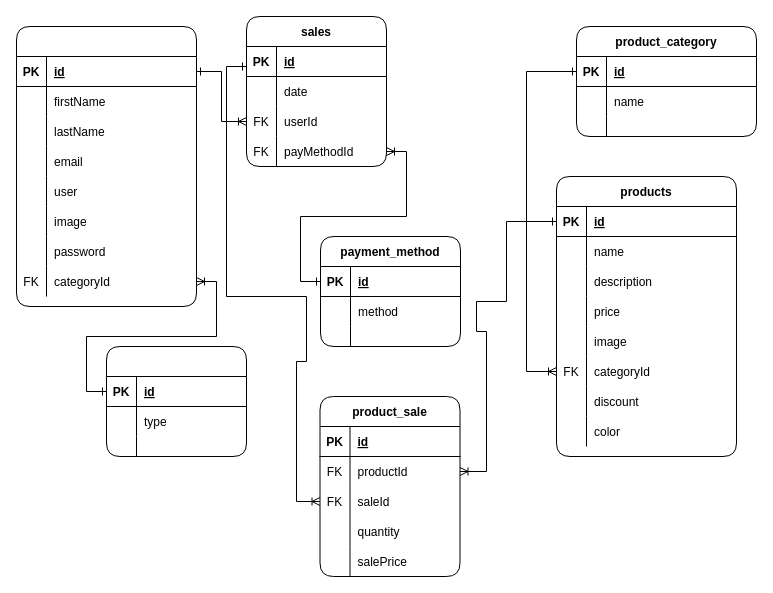
The diagram is 773 pixels wide and 593 high, and some of its shapes have lost their labels. The shapes that lost their labels are listed below. From the top down, each one's box as (x1, y1, x2, y2) in pixels, then its label:
(16, 26, 196, 306): Users
(106, 346, 246, 456): category_users
